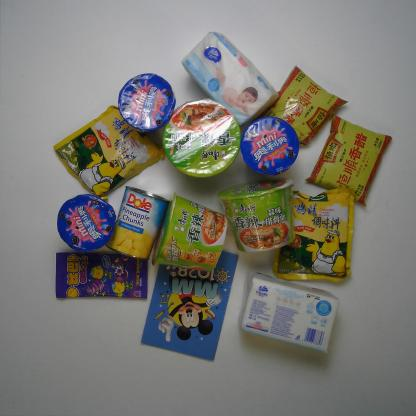Candy: (53, 250, 150, 301)
Canned Food: (106, 184, 168, 262)
Dessert: (57, 193, 116, 252), (241, 117, 300, 176), (118, 74, 176, 132)
Instant Noodles: (150, 192, 228, 272), (163, 98, 241, 178), (216, 178, 297, 254)
Seasoner: (53, 105, 165, 200), (304, 116, 393, 206), (274, 187, 355, 284), (259, 63, 348, 150)
Stationery: (138, 241, 240, 363)
Tissue: (180, 30, 279, 126), (237, 273, 341, 355)
